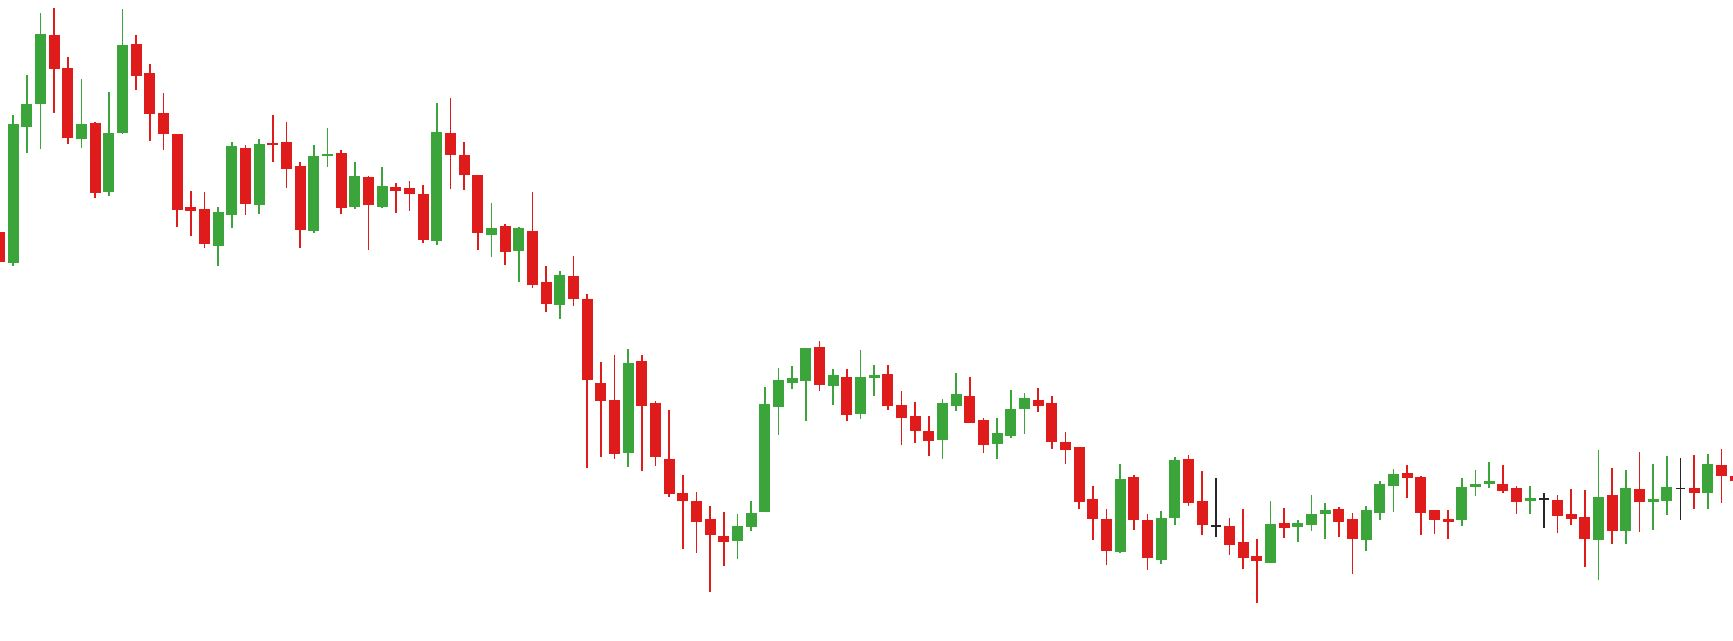sell: (264, 102, 459, 199)
